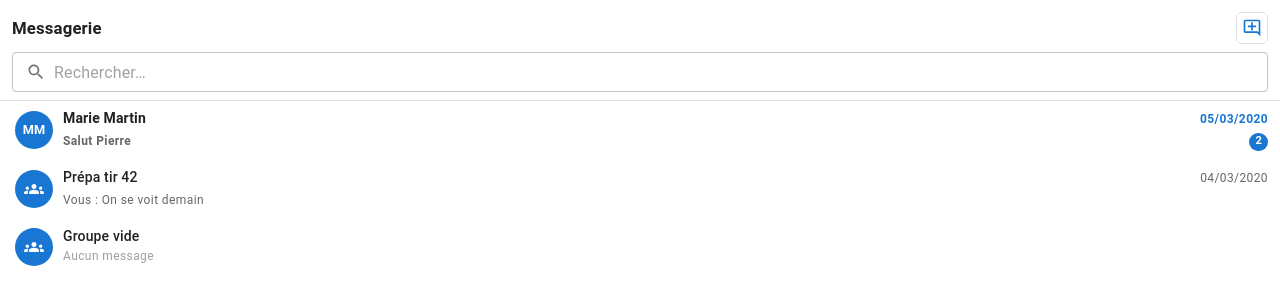
Test: ConversationList › affiche « Aucune conversation ne correspond » quand la recherche ne trouve rien
The image size is (1280, 283).
Type "zzz-introuvable" into the field named "Rechercher une conversation". click: x=661, y=72
box: [54,52,1268,92]
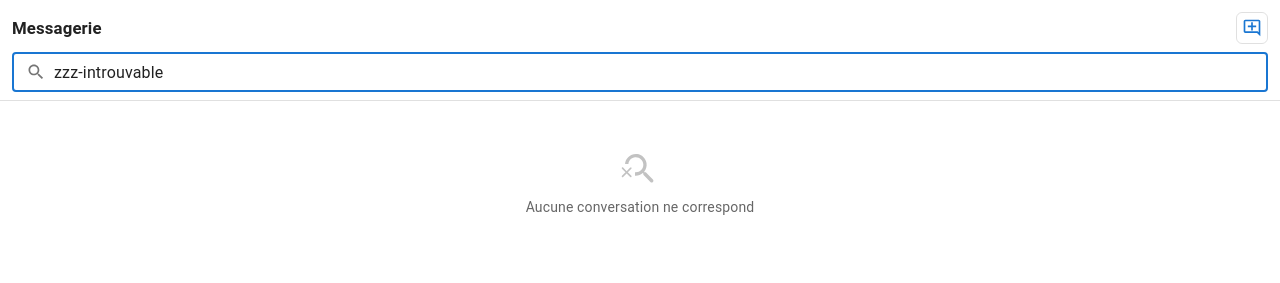
Expected: the text "Aucune conversation ne correspond" is shown, [526,197,754,217]
